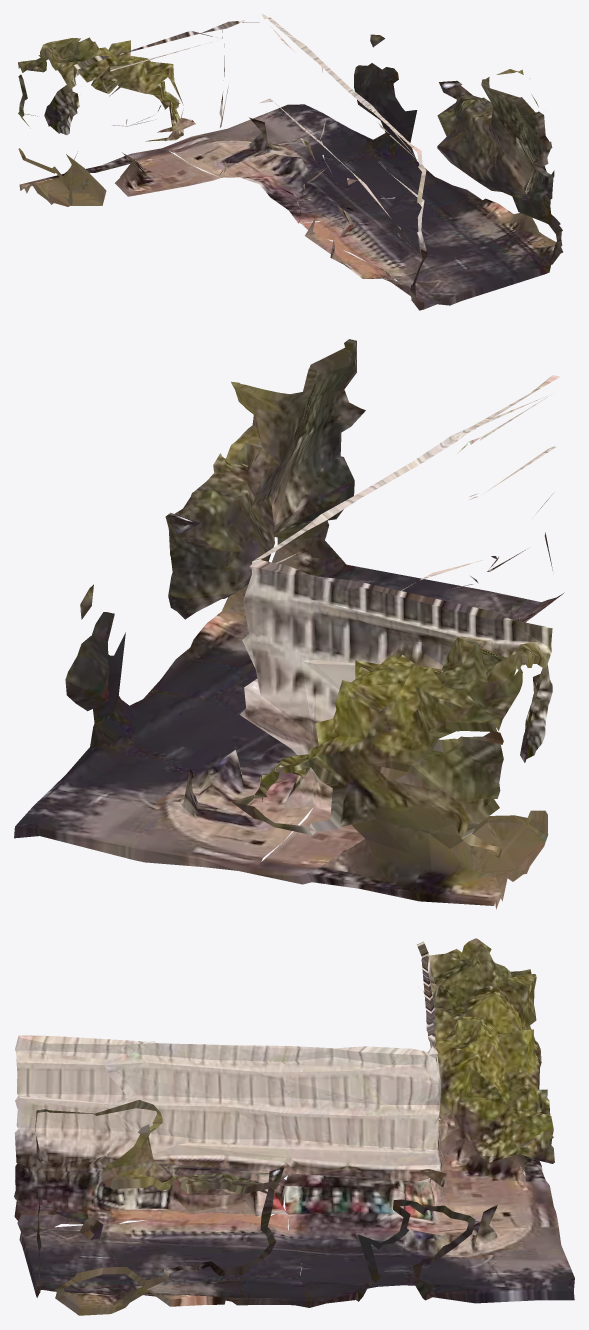
The picture shows the model from 3 angles, top to bottom: view 1: azimuth 30°, elevation 25°; view 2: azimuth 150°, elevation 25°; view 3: azimuth 270°, elevation 25°; orthographic projection. The views are drawn at different scales.
Parts seen in each view (by area): view 1: Mesh_0; view 2: Mesh_0; view 3: Mesh_0.
Part boxes in pixels (x1,y1,x2,y2): Mesh_0: (18,14,562,310); Mesh_0: (14,339,564,909); Mesh_0: (14,938,574,1315).
Bounding box in the file's own units: 33.66 × 15.46 × 39.97.
Materials: 1 (1 with a texture image).
